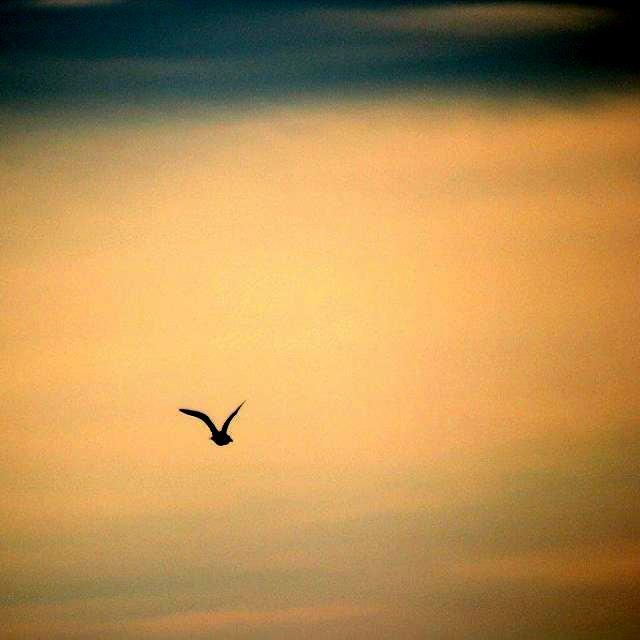bird: (172, 390, 242, 450)
